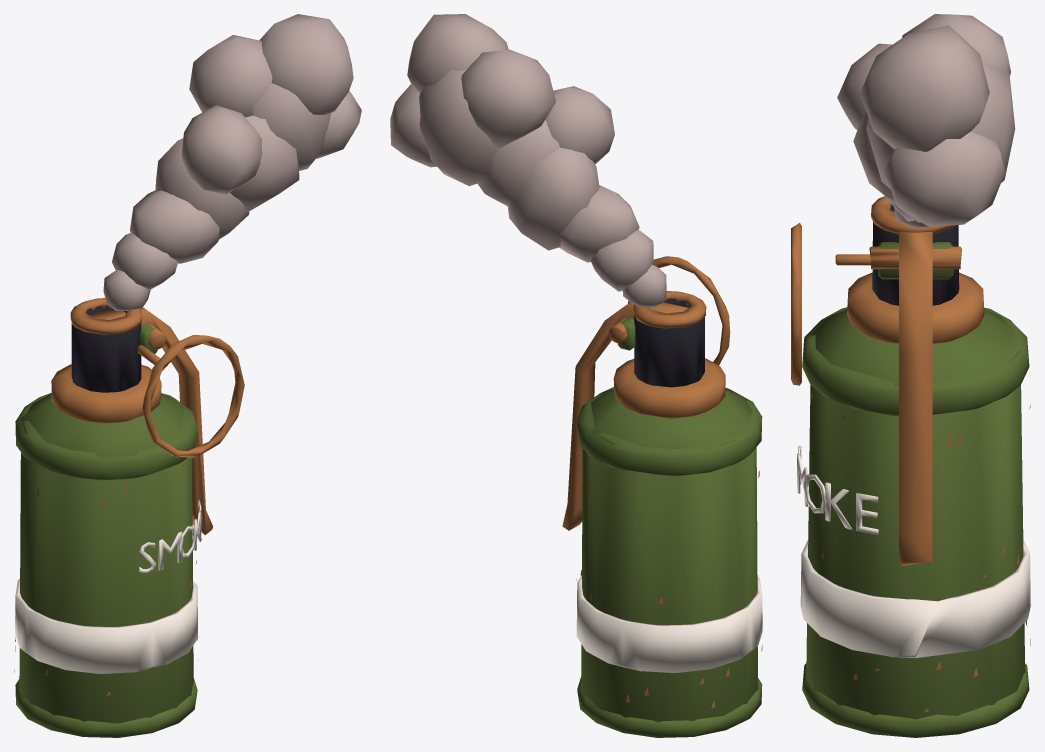
3 views of the same model, side by side, from view 1: azimuth 30°, elevation 25°; view 2: azimuth 150°, elevation 25°; view 3: azimuth 270°, elevation 25° (orthographic). The views are drawn at different scales.
Visible parts, largest first — view 1: object 2, body; view 2: object 2, body; view 3: object 2, body.
Part boxes in pixels (box(x1,y1,x2,y2)): object 2: box(14, 14, 361, 695); body: box(15, 324, 197, 737); object 2: box(390, 14, 762, 708); body: box(577, 317, 762, 737); object 2: box(791, 14, 1030, 712); body: box(802, 242, 1029, 737).
Bounding box in the file's own units: 0.3484 × 0.6163 × 0.1708.
